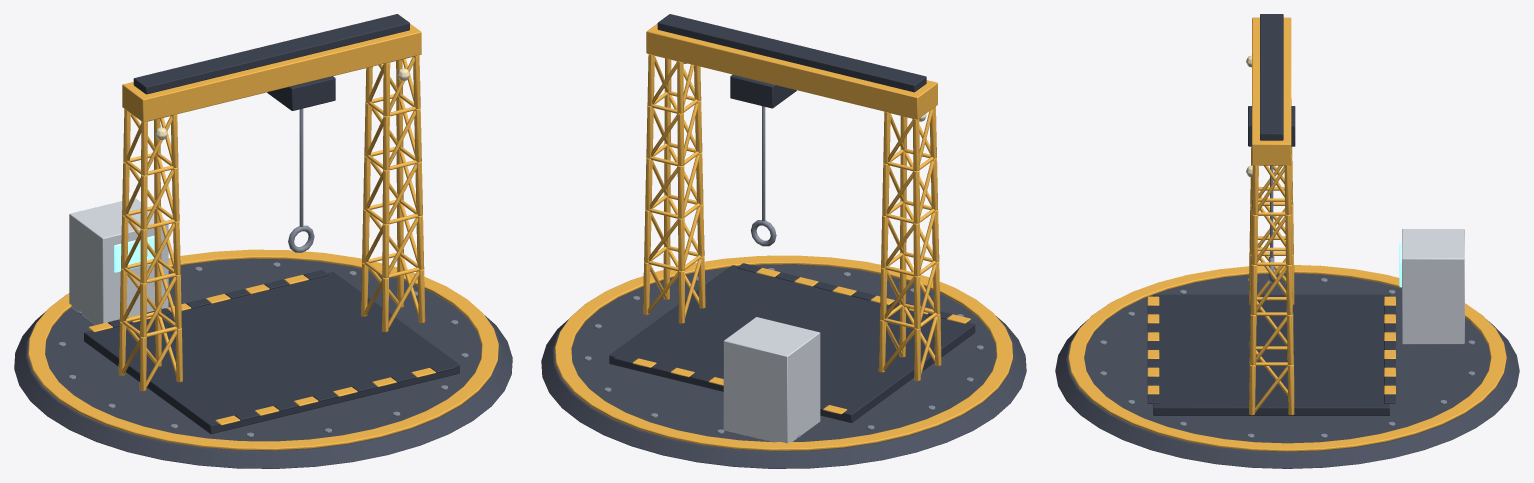
The model's file is lifter.fbx.
3 views of the same model, side by side, from view 1: azimuth 30°, elevation 25°; view 2: azimuth 150°, elevation 25°; view 3: azimuth 270°, elevation 25° (orthographic). The views are drawn at different scales.
Visible parts, largest first — view 1: lifter_Koerper, lifter_Dreh; view 2: lifter_Koerper, lifter_Dreh; view 3: lifter_Koerper, lifter_Dreh.
Part boxes in pixels (x1,y1,x2,y2): lifter_Koerper: (14, 14, 512, 468); lifter_Dreh: (267, 76, 335, 252); lifter_Koerper: (541, 14, 1026, 468); lifter_Dreh: (730, 74, 796, 246); lifter_Koerper: (1055, 14, 1519, 468); lifter_Dreh: (1248, 106, 1295, 282).
Size of the model in its own units: 5.89 by 4.16 by 5.89.
